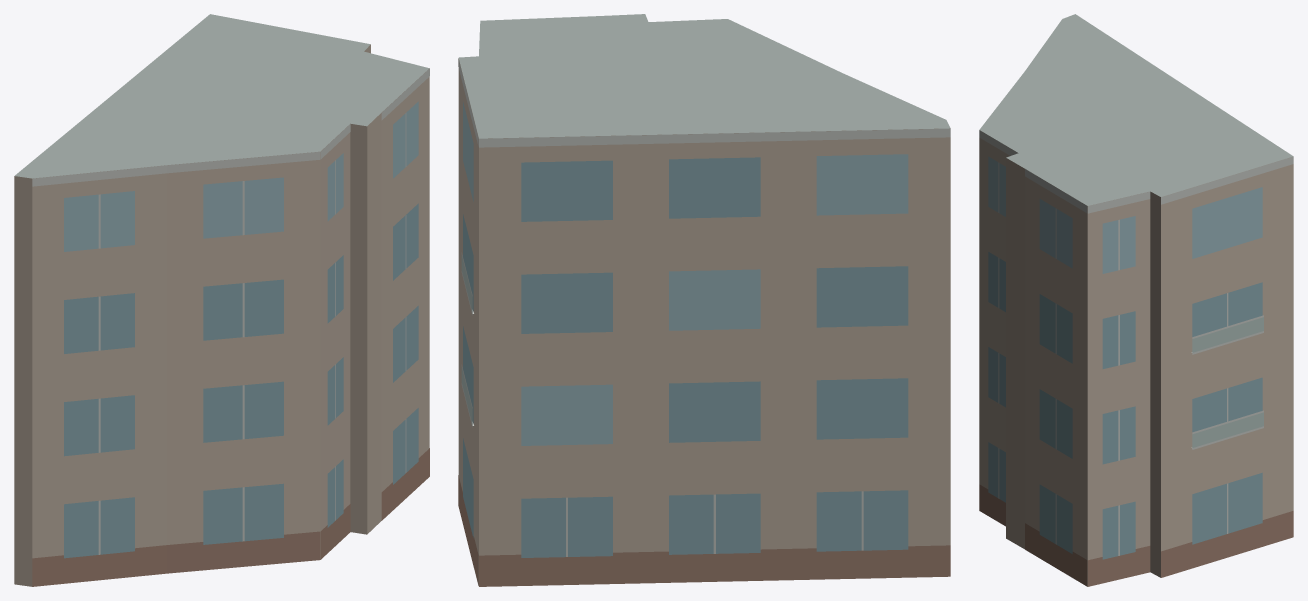
File: survey-upis-32957342.glb
The picture shows the model from 3 angles, left to right: view 1: azimuth 30°, elevation 25°; view 2: azimuth 150°, elevation 25°; view 3: azimuth 270°, elevation 25°; orthographic projection. The views are drawn at different scales.
Visible parts, largest first — view 1: survey-upis-32957342.tmp; view 2: survey-upis-32957342.tmp; view 3: survey-upis-32957342.tmp.
Boxes of the visible parts, x1,y1,x2,y2 form: survey-upis-32957342.tmp: (14, 14, 429, 586); survey-upis-32957342.tmp: (458, 14, 950, 586); survey-upis-32957342.tmp: (979, 14, 1293, 586).
Size of the model in its own units: 13.2 by 12.2 by 9.14.
